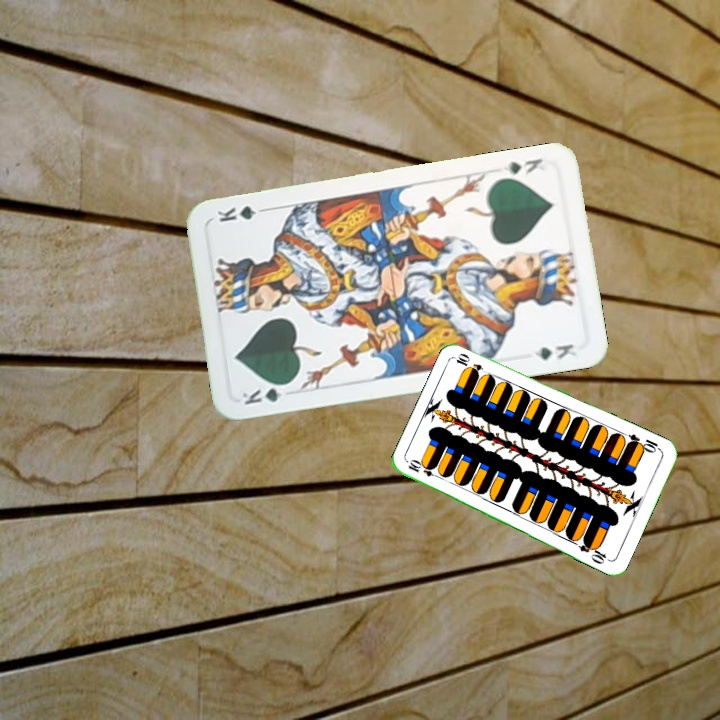E10: (624, 430, 664, 455), (404, 457, 444, 481)
GK: (237, 379, 294, 408), (499, 154, 545, 179)
